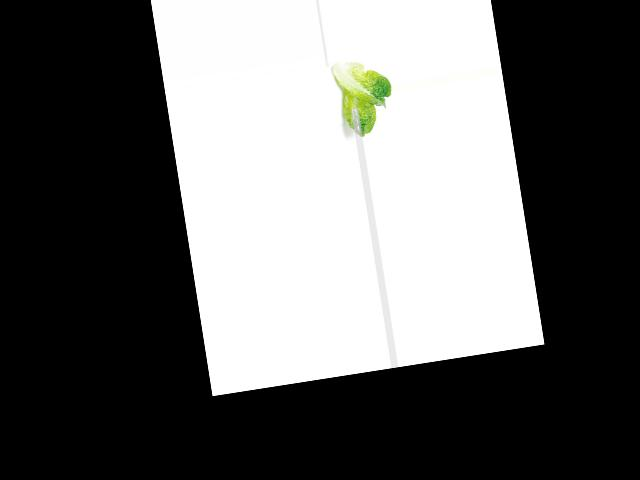lettuce: (333, 53, 398, 141)
